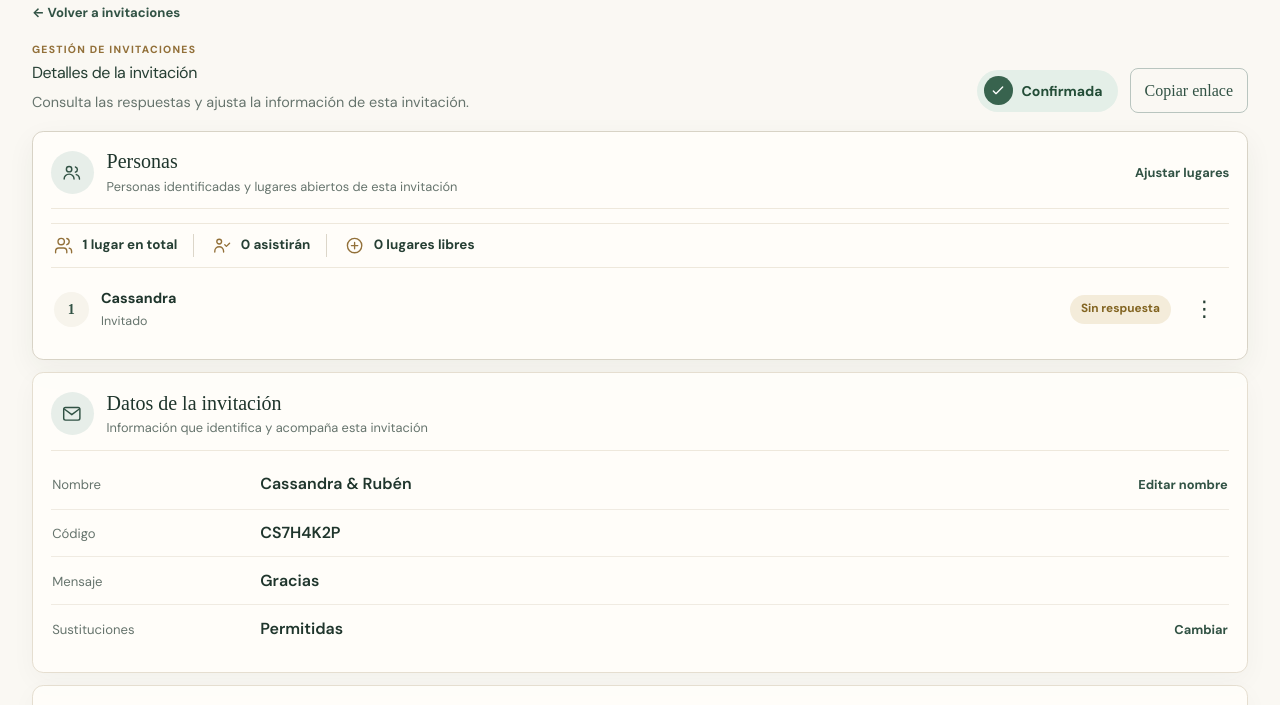
detalle de la invitación › conserva la restricción para una sola persona
Expected: the heading "Personas" is shown, [107, 150, 178, 172]
Expected: the text "1 lugar en total" is shown, [83, 236, 178, 254]
What coordinates should you click on to do the following:
click the button named "Acciones para Cassandra"
I would click on:
 (1204, 309)
Its box is [1182, 287, 1226, 331].
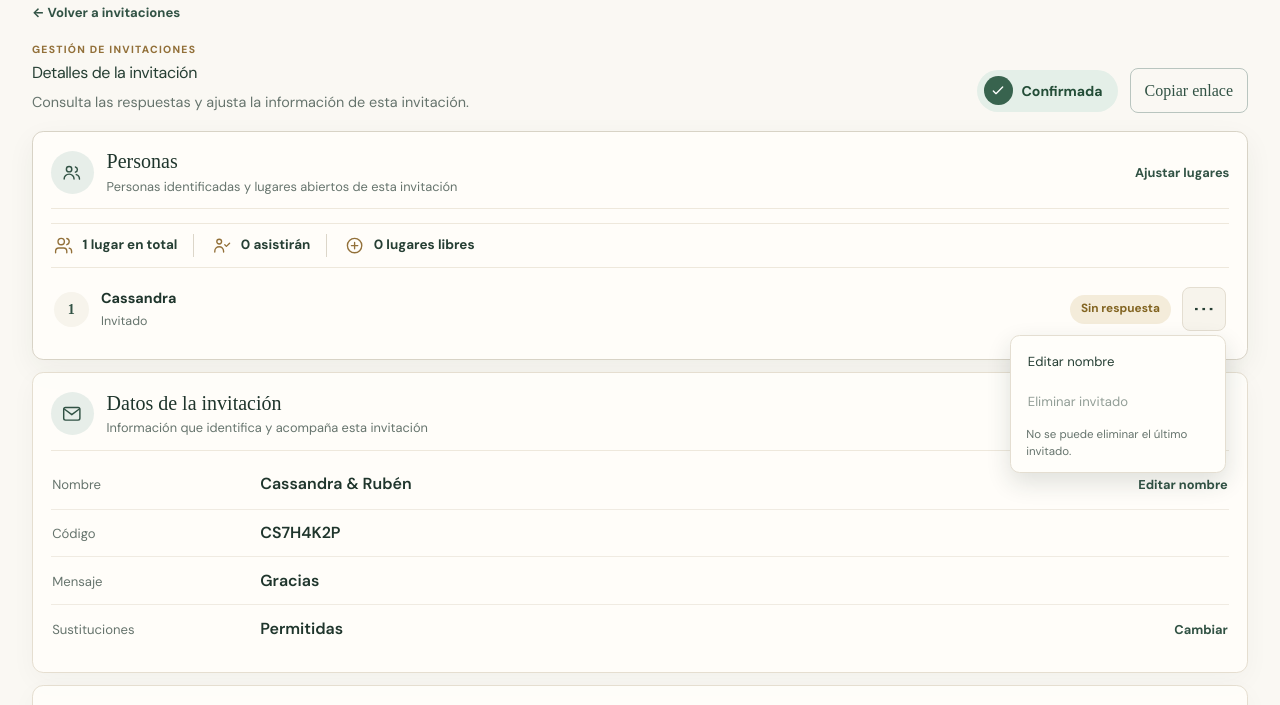
Now the button "Eliminar invitado" is disabled, box [1017, 382, 1220, 423]
Now the text "No se puede eliminar el último invitado." is shown, box [1026, 426, 1210, 460]
